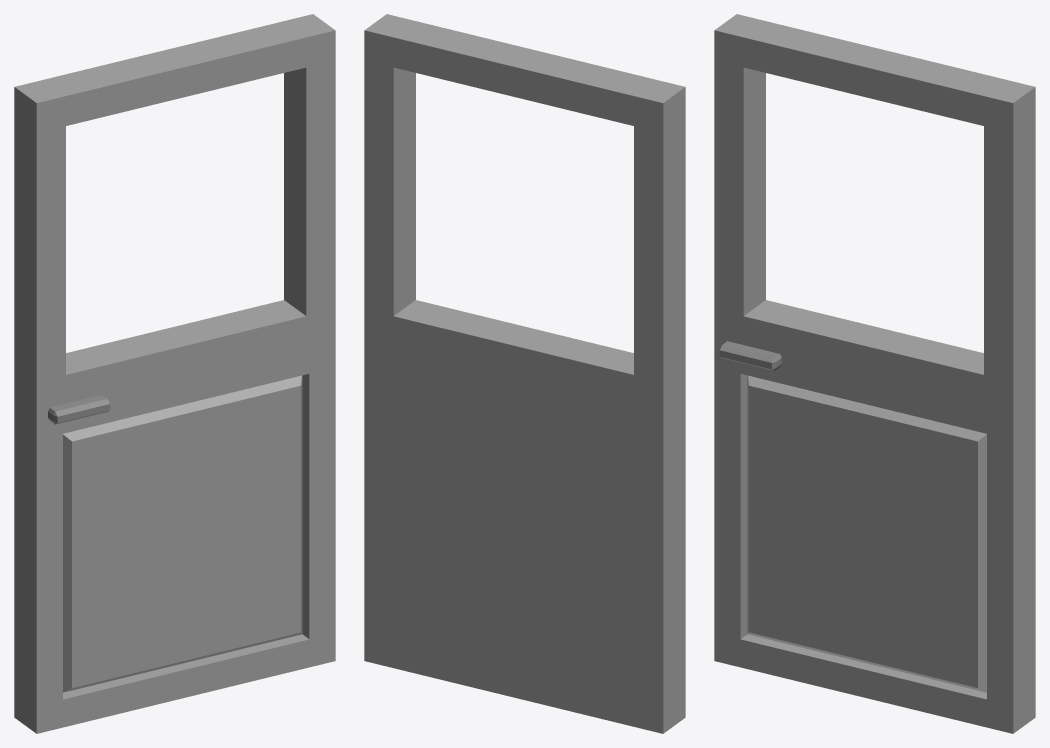
File: coffeeDoor.fbx
3 views of the same model, side by side, from view 1: azimuth 30°, elevation 25°; view 2: azimuth 150°, elevation 25°; view 3: azimuth 330°, elevation 25° (orthographic).
Parts seen in each view (by area): view 1: coffeeDoor; view 2: coffeeDoor; view 3: coffeeDoor.
Part boxes in pixels (x1,y1,x2,y2): coffeeDoor: (14, 14, 335, 733); coffeeDoor: (364, 14, 685, 733); coffeeDoor: (714, 14, 1035, 733).
Bounding box in the file's own units: 101 × 204 × 17.73.
Materials: 2 (1 with a texture image).
